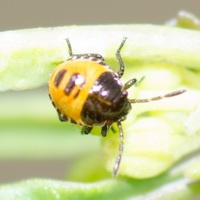insect: (48, 37, 185, 175)
